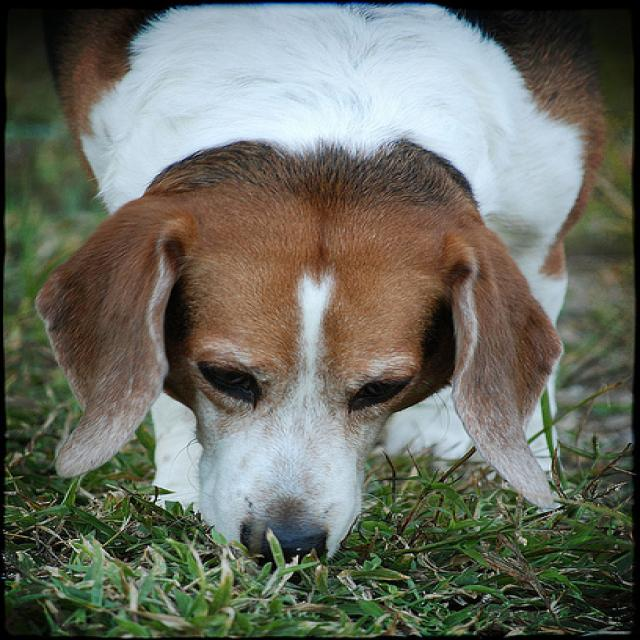dog-beagle: (16, 1, 612, 580)
